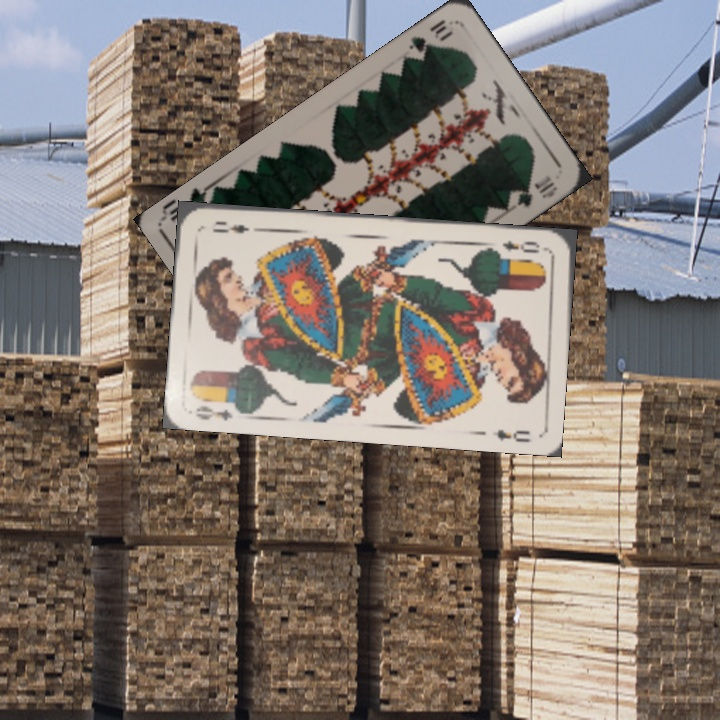EO: (192, 402, 235, 424), (498, 236, 543, 256)
G10: (404, 15, 456, 63)
